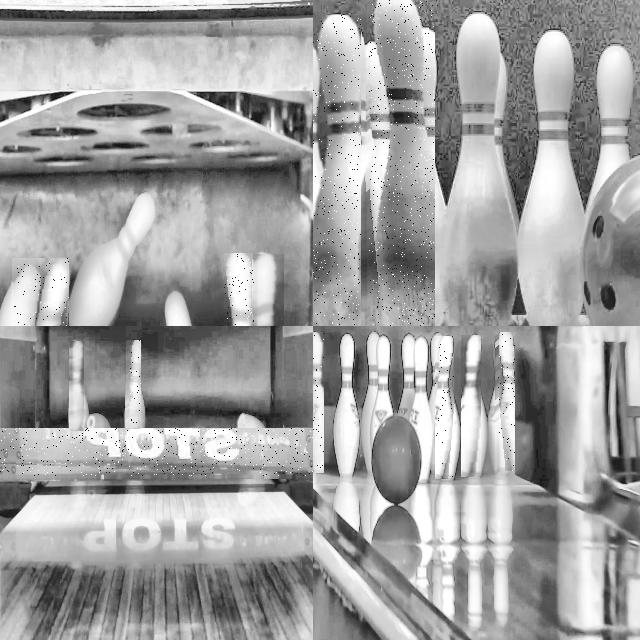bowling-ball: (582, 157, 640, 326), (371, 415, 421, 504)
bowling-pins: (438, 13, 517, 326), (369, 0, 434, 326), (518, 30, 584, 326), (313, 15, 361, 326), (408, 32, 446, 326), (586, 45, 633, 217), (494, 53, 519, 231), (333, 334, 359, 476), (409, 337, 433, 483), (370, 335, 393, 464), (352, 48, 372, 178), (361, 332, 379, 473), (462, 335, 480, 475), (435, 337, 453, 477), (34, 258, 68, 326), (498, 332, 514, 472), (429, 332, 443, 475), (227, 254, 252, 326), (397, 334, 415, 419), (313, 332, 323, 472), (255, 255, 273, 326), (71, 341, 84, 431), (128, 340, 140, 429)
sweep board: (0, 429, 313, 476)
